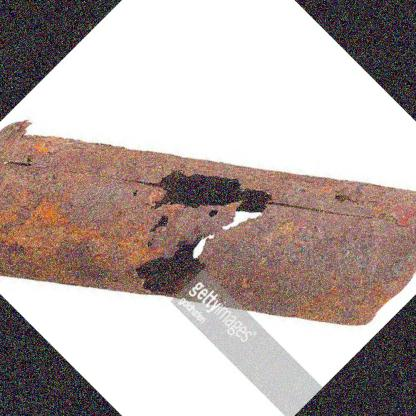burst: (131, 159, 266, 259)
